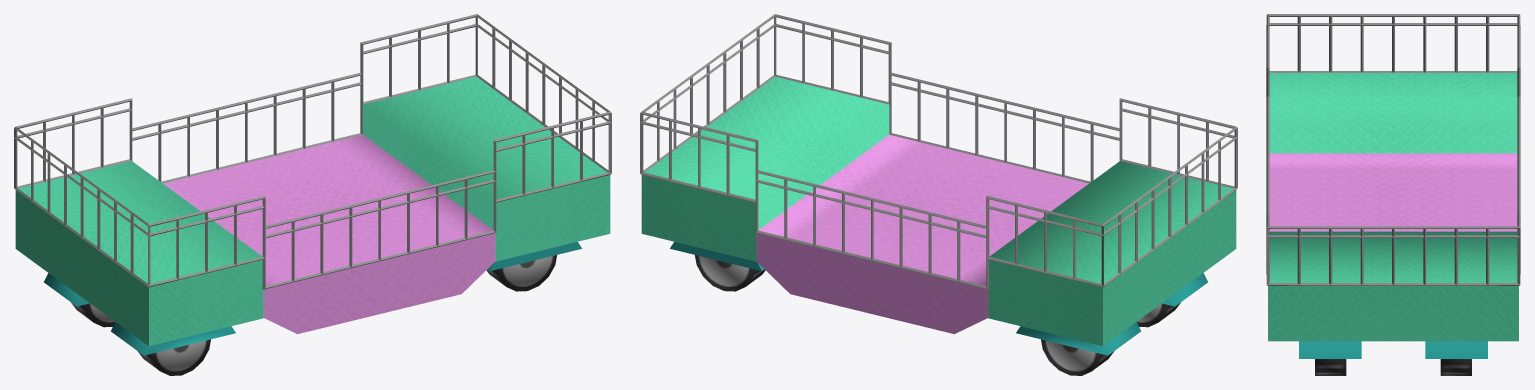
File: palco03.fbx
3 views of the same model, side by side, from view 1: azimuth 30°, elevation 25°; view 2: azimuth 150°, elevation 25°; view 3: azimuth 270°, elevation 25° (orthographic). The views are drawn at different scales.
Visible parts, largest first — view 1: palco01.002, grade.002; view 2: palco01.002, grade.002; view 3: palco01.002, grade.002.
Part boxes in pixels (x1,y1,x2,y2): palco01.002: [15, 76, 610, 375]; grade.002: [14, 14, 611, 289]; palco01.002: [641, 76, 1236, 375]; grade.002: [640, 14, 1237, 289]; palco01.002: [1268, 72, 1518, 375]; grade.002: [1266, 14, 1520, 285].
Bounding box in the file's own units: 805 × 305 × 405.
